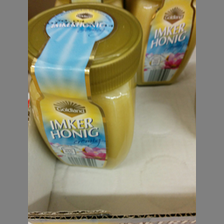honey: (26, 4, 145, 169), (130, 1, 197, 85)
